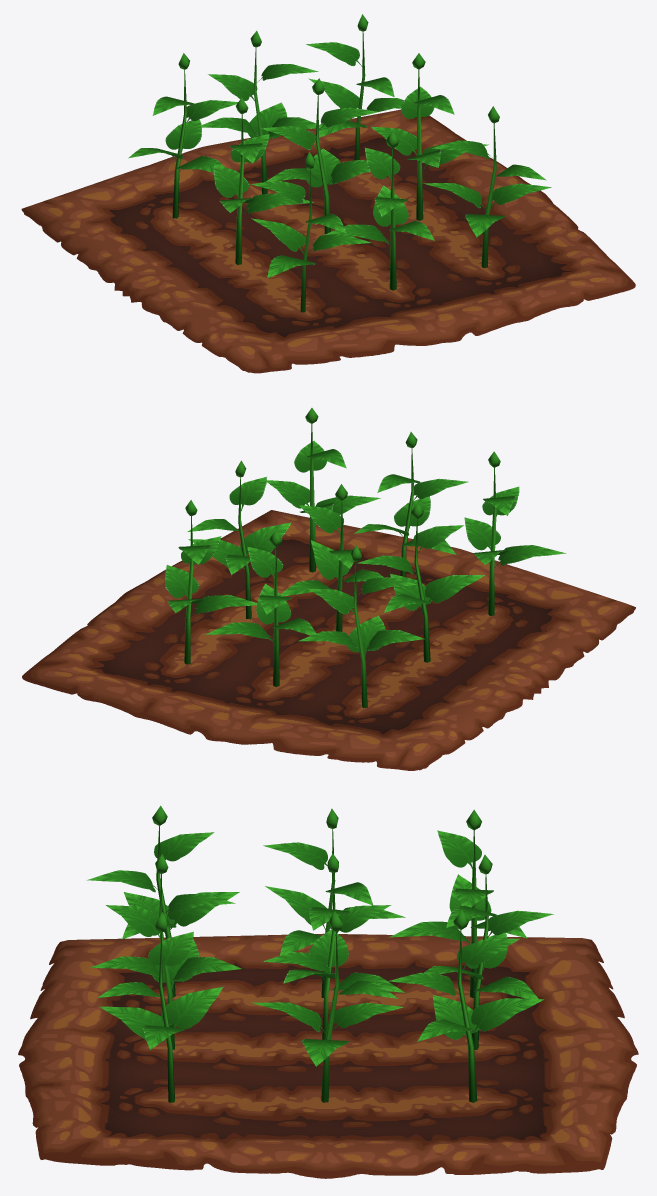
Rendered from SunFlower_Field_Lv2.FBX.
The picture shows the model from 3 angles, top to bottom: view 1: azimuth 30°, elevation 25°; view 2: azimuth 150°, elevation 25°; view 3: azimuth 270°, elevation 25°; orthographic projection. The views are drawn at different scales.
Visible parts, largest first — view 1: SunFlower_Field_Lv2; view 2: SunFlower_Field_Lv2; view 3: SunFlower_Field_Lv2.
Boxes of the visible parts, x1,y1,x2,y2 form: SunFlower_Field_Lv2: (21,14,635,373); SunFlower_Field_Lv2: (22,408,635,770); SunFlower_Field_Lv2: (18,805,638,1178).
Bounding box in the file's own units: 274 × 103 × 296.
